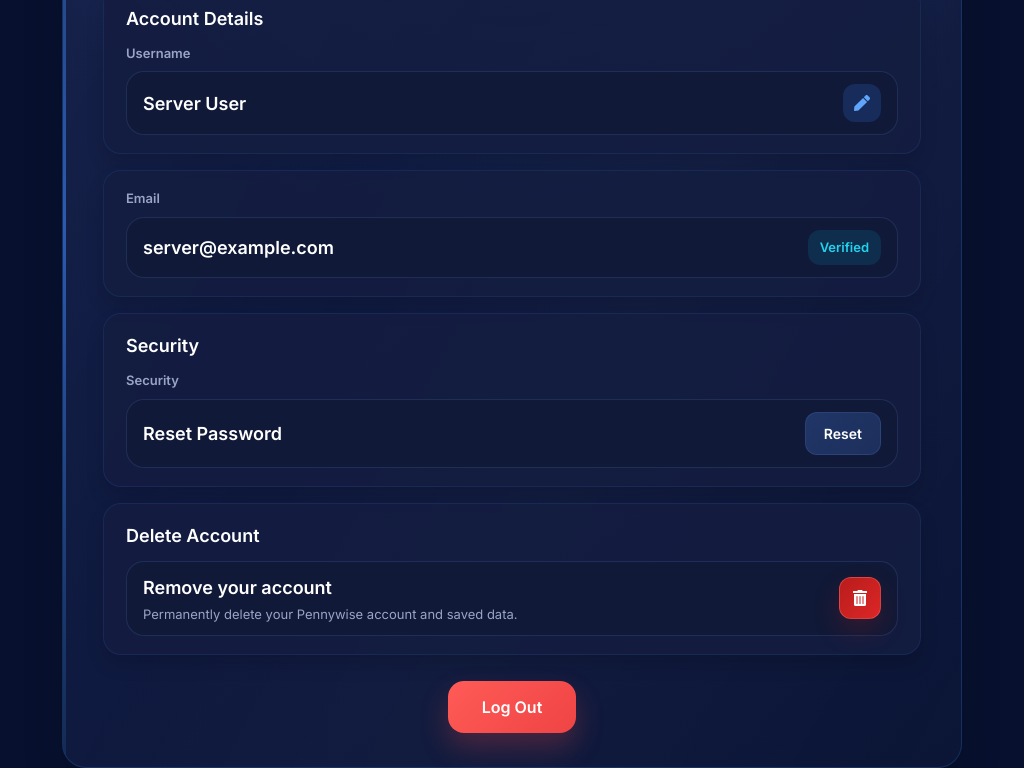
Test: Profile page › rejects weak new password before submitting
(page scrolled)
Click the button "Reset": (843, 433) [805, 412, 881, 454]
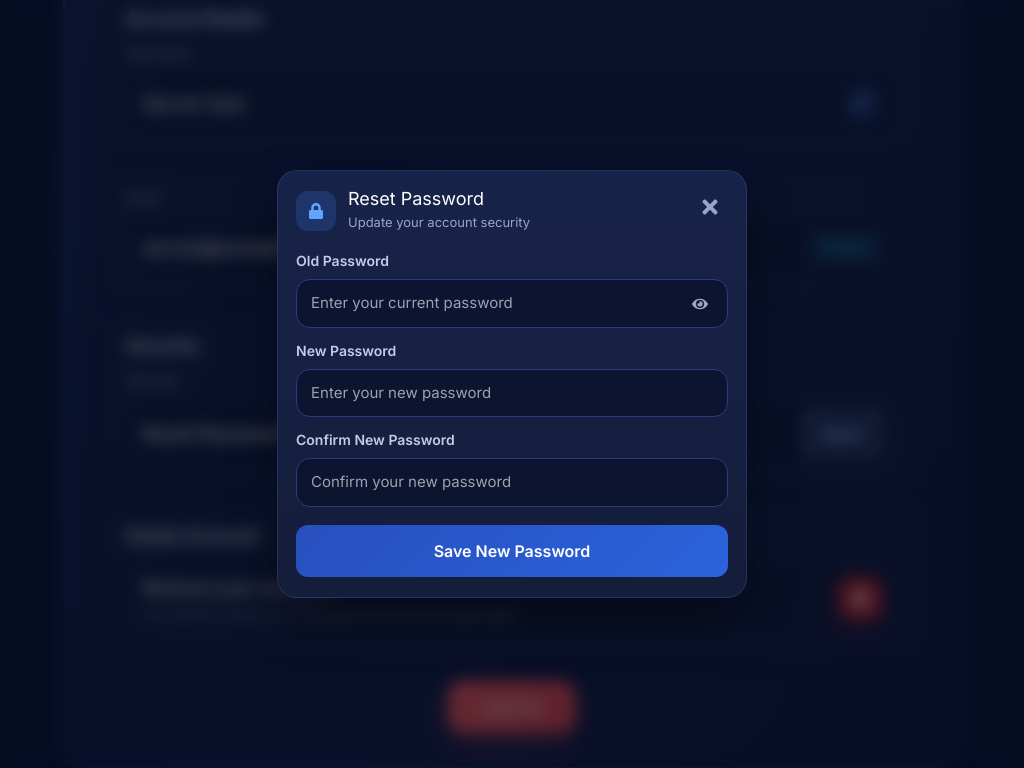
In the password field labelled "Old Password": (512, 304) [296, 279, 728, 328], type "OldPass@123"
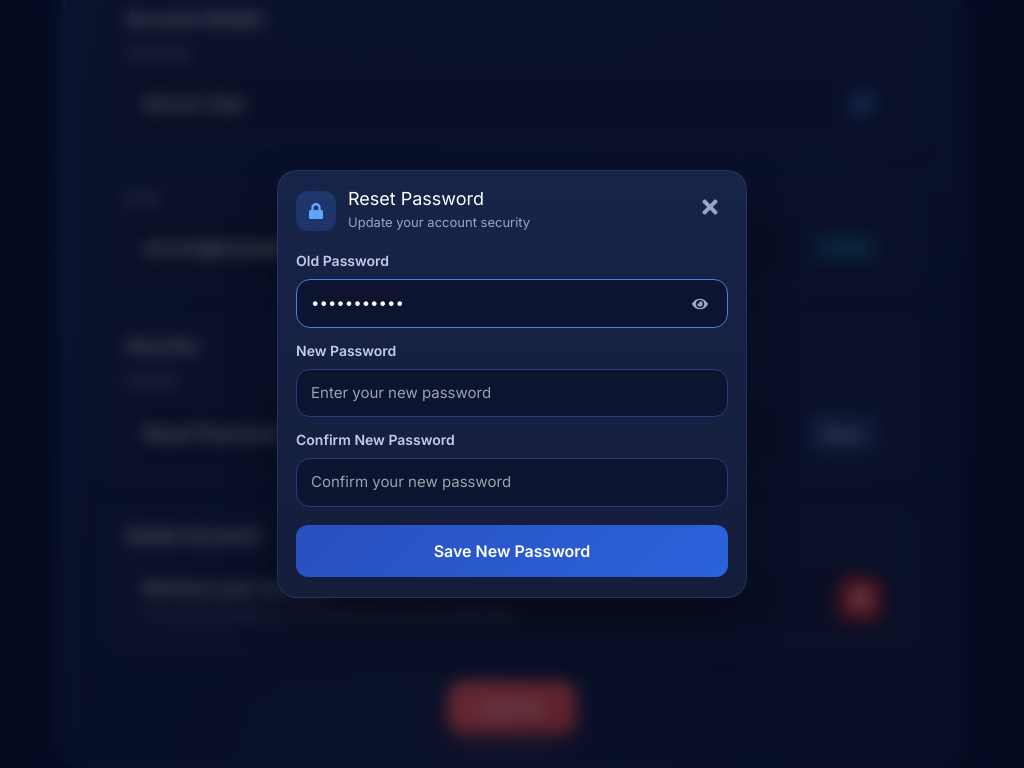
In the password field labelled "New Password": (512, 393) [296, 369, 728, 417], type "weakpass"
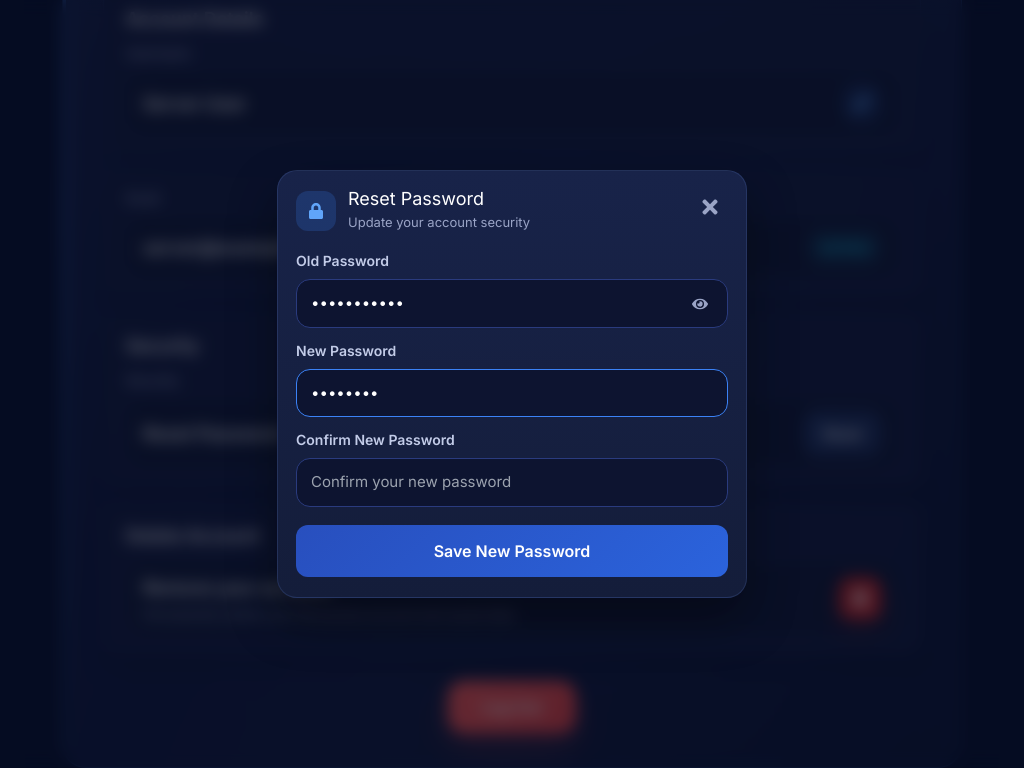
In the password field labelled "Confirm New Password": (512, 483) [296, 458, 728, 507], type "weakpass"
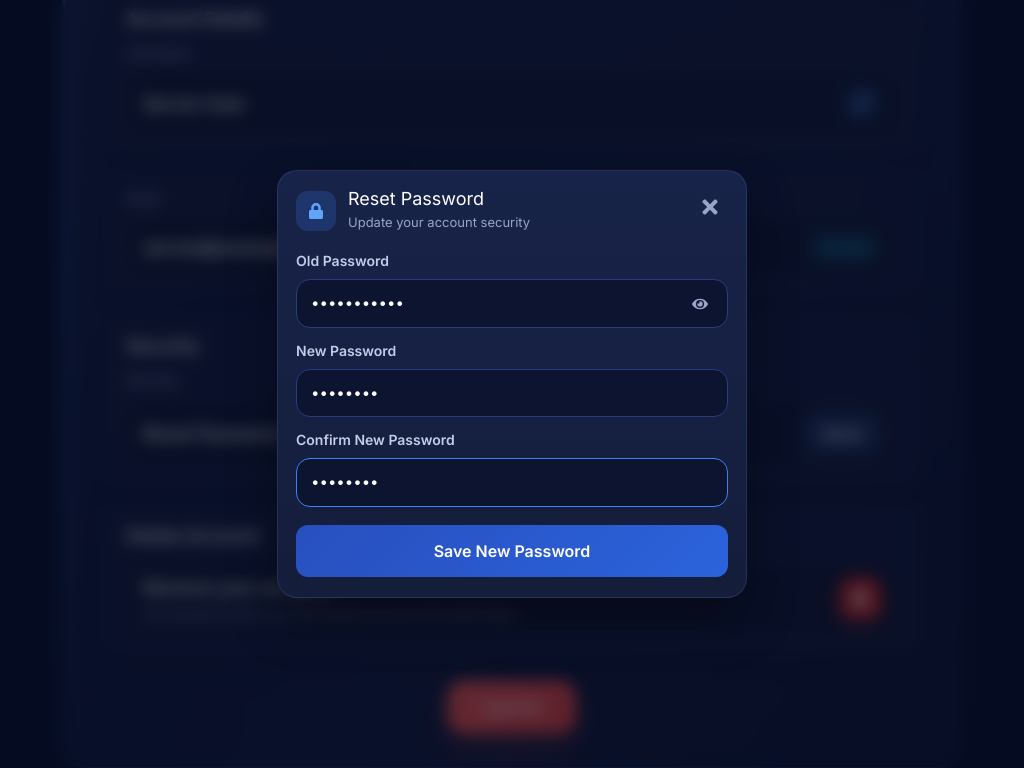
Click the button "Save New Password": (512, 551) [296, 525, 728, 577]
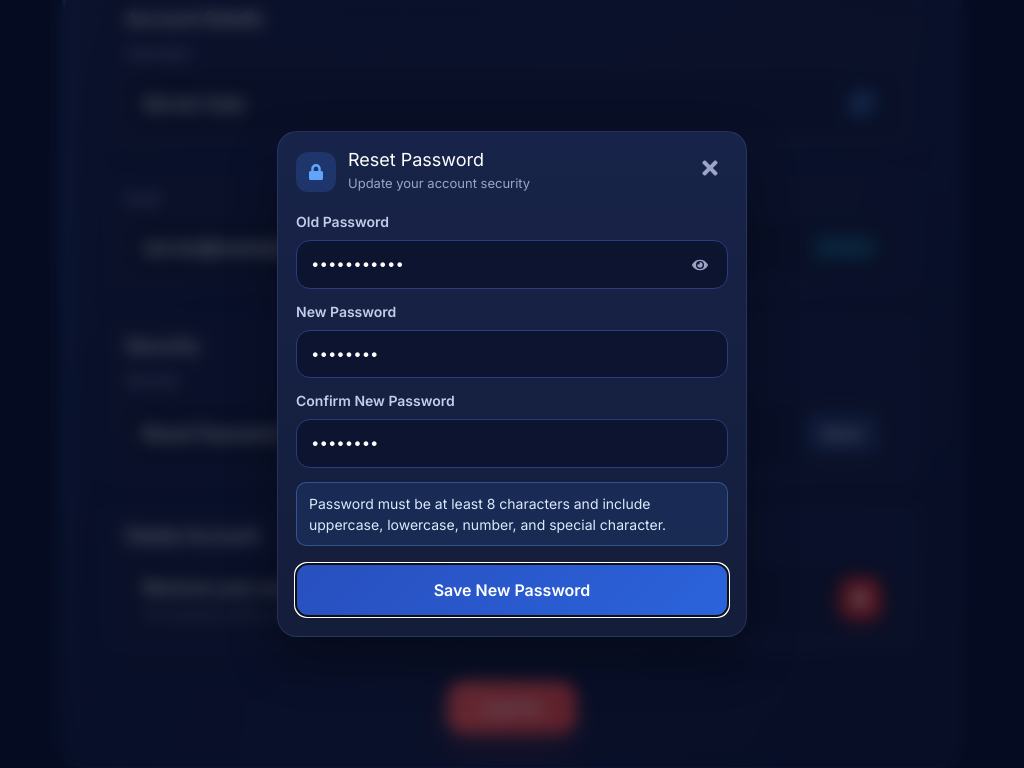
Result: the text "Password must be at least 8 characters and include uppercase, lowercase, number, and special character." is shown at [309, 495, 666, 533]
